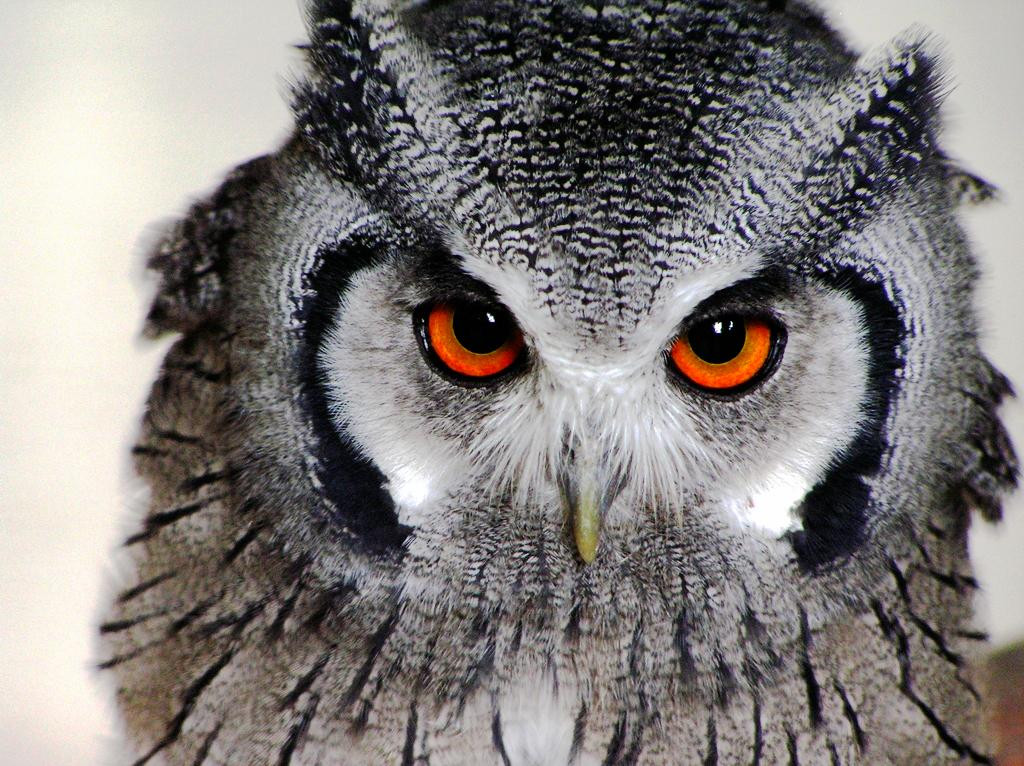Owl: (92, 0, 1024, 766)
